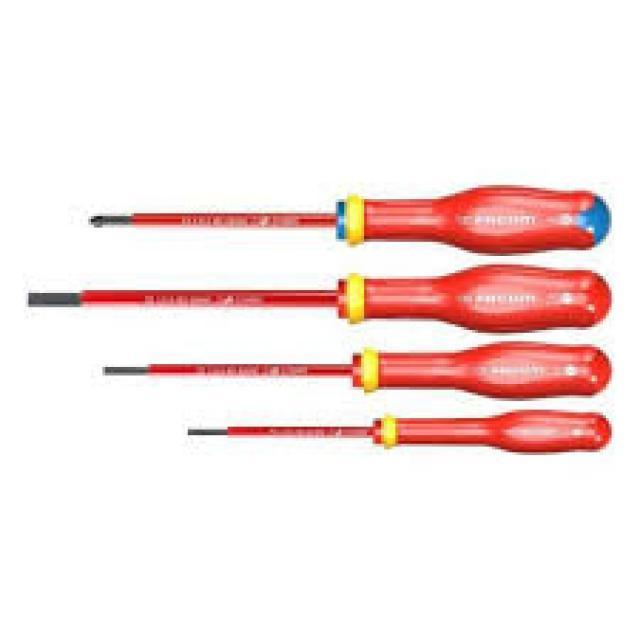screwdriver: (10, 258, 616, 334), (83, 178, 624, 258), (93, 336, 614, 404), (172, 408, 616, 457)
